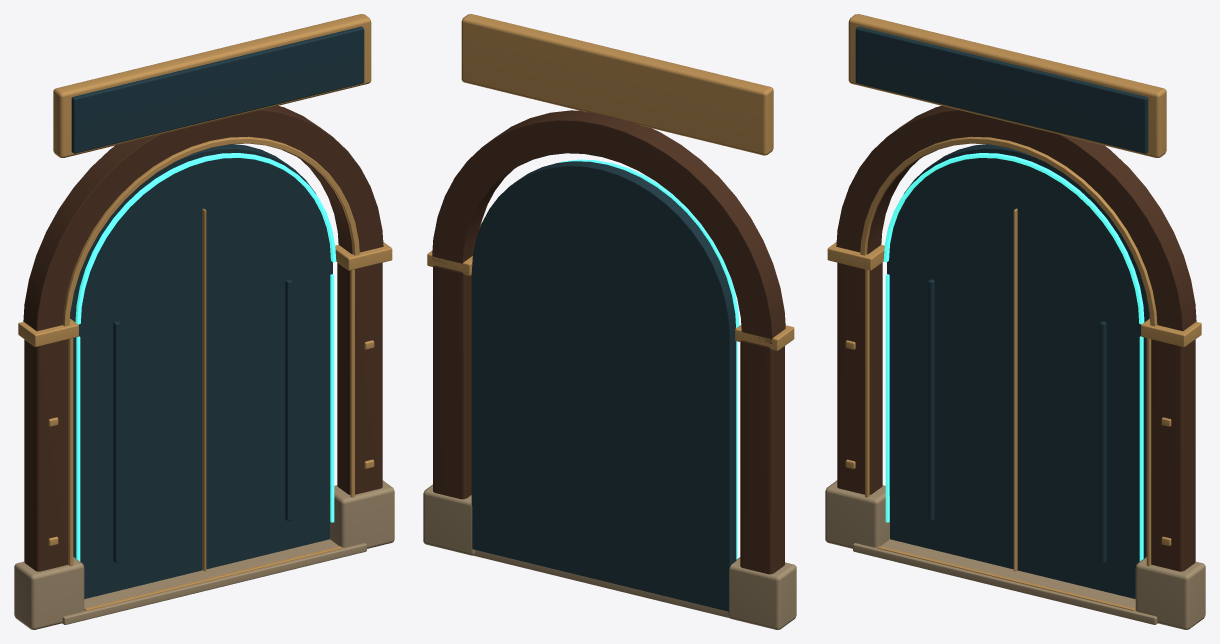
Rendered from foyer-portal.glb.
The picture shows the model from 3 angles, left to right: view 1: azimuth 30°, elevation 25°; view 2: azimuth 150°, elevation 25°; view 3: azimuth 330°, elevation 25°; orthographic projection.
Visible parts, largest first — view 1: Midnight blue enamel, Smoked oak, Satin brass, Honed honey limestone, Melted teal seam; view 2: Midnight blue enamel, Smoked oak, Satin brass, Honed honey limestone, Melted teal seam; view 3: Midnight blue enamel, Smoked oak, Satin brass, Honed honey limestone, Melted teal seam.
Part boxes in pixels (x1,y1,x2,y2): Midnight blue enamel: (70,26,364,598); Smoked oak: (23,105,383,571); Satin brass: (18,14,392,610); Honed honey limestone: (14,480,394,629); Melted teal seam: (75,153,336,561); Midnight blue enamel: (471,161,736,611); Smoked oak: (432,110,785,574); Satin brass: (427,14,794,350); Honed honey limestone: (423,484,796,629); Melted teal seam: (558,159,739,559); Midnight blue enamel: (855,26,1149,598); Smoked oak: (836,105,1196,571); Satin brass: (827,14,1201,610); Honed honey limestone: (825,480,1205,629); Melted teal seam: (883,153,1144,561).
Bounding box in the file's own units: 2.43 × 3.4 × 0.2855.
